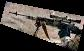gun: (0, 1, 84, 51)
